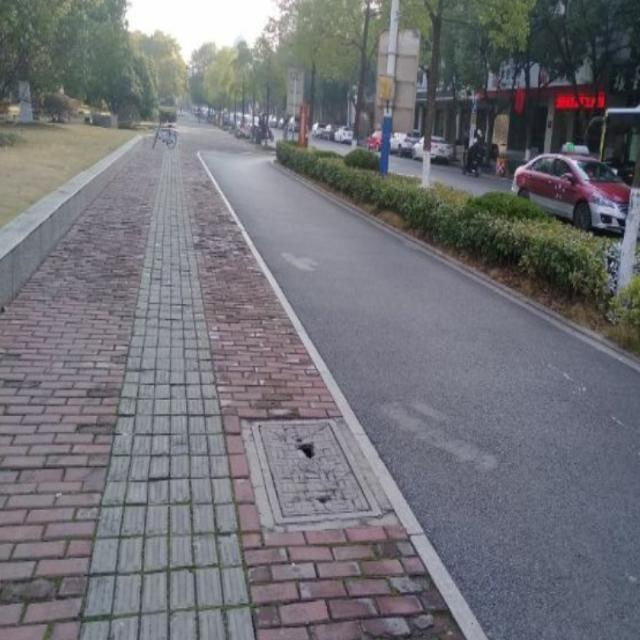Broken: (242, 402, 381, 533)
